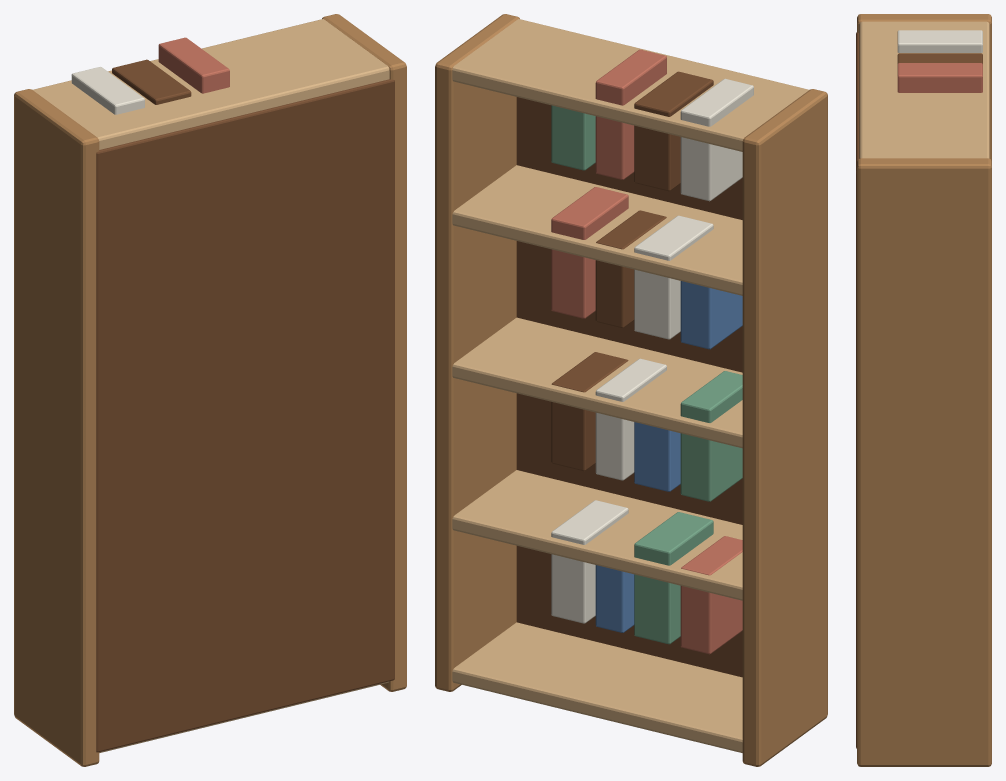
Rendered from bookshelf.glb.
3 renders of one model, left to right at view 1: azimuth 30°, elevation 25°; view 2: azimuth 150°, elevation 25°; view 3: azimuth 270°, elevation 25°, orthographic. The views are drawn at different scales.
Parts seen in each view (by area): view 1: Bookshelf_Back, Bookshelf_Left_Side, Bookshelf_Shelf.004, Bookshelf_Right_Side, Bookshelf_Book.014, Bookshelf_Book.012, Bookshelf_Book.013; view 2: Bookshelf_Left_Side, Bookshelf_Right_Side, Bookshelf_Back, Bookshelf_Shelf, Bookshelf_Shelf.004, Bookshelf_Shelf.002, Bookshelf_Shelf.003, Bookshelf_Shelf.001, Bookshelf_Book.001, Bookshelf_Book.004, Bookshelf_Book.011, Bookshelf_Book.012 (+12 smaller); view 3: Bookshelf_Right_Side, Bookshelf_Shelf.004, Bookshelf_Book.014, Bookshelf_Book.012, Bookshelf_Left_Side, Bookshelf_Back, Bookshelf_Book.013.
Boxes of the visible parts, x1=… form: Bookshelf_Back: x1=96, y1=79, x2=394, y2=752; Bookshelf_Left_Side: x1=14, y1=89, x2=99, y2=766; Bookshelf_Shelf.004: x1=32, y1=19, x2=389, y2=149; Bookshelf_Right_Side: x1=322, y1=14, x2=406, y2=691; Bookshelf_Book.014: x1=158, y1=37, x2=229, y2=93; Bookshelf_Book.012: x1=71, y1=67, x2=144, y2=114; Bookshelf_Book.013: x1=112, y1=59, x2=191, y2=104; Bookshelf_Left_Side: x1=742, y1=89, x2=827, y2=766; Bookshelf_Right_Side: x1=435, y1=14, x2=519, y2=691; Bookshelf_Back: x1=516, y1=97, x2=742, y2=677; Bookshelf_Shelf: x1=452, y1=622, x2=742, y2=752; Bookshelf_Shelf.004: x1=452, y1=19, x2=809, y2=151; Bookshelf_Shelf.002: x1=452, y1=317, x2=742, y2=448; Bookshelf_Shelf.003: x1=452, y1=165, x2=742, y2=295; Bookshelf_Shelf.001: x1=452, y1=470, x2=742, y2=600; Bookshelf_Book.001: x1=634, y1=512, x2=713, y2=644; Bookshelf_Book.004: x1=680, y1=371, x2=742, y2=501; Bookshelf_Book.011: x1=551, y1=187, x2=628, y2=318; Bookshelf_Book.012: x1=680, y1=78, x2=753, y2=201; Bookshelf_Right_Side: x1=857, y1=158, x2=991, y2=766; Bookshelf_Shelf.004: x1=859, y1=21, x2=989, y2=158; Bookshelf_Book.014: x1=897, y1=63, x2=982, y2=92; Bookshelf_Book.012: x1=897, y1=30, x2=982, y2=52; Bookshelf_Left_Side: x1=857, y1=14, x2=991, y2=160; Bookshelf_Back: x1=856, y1=32, x2=859, y2=748; Bookshelf_Book.013: x1=897, y1=53, x2=982, y2=63.
Bounding box in the file's own units: 0.805 × 1.52 × 0.3025.
